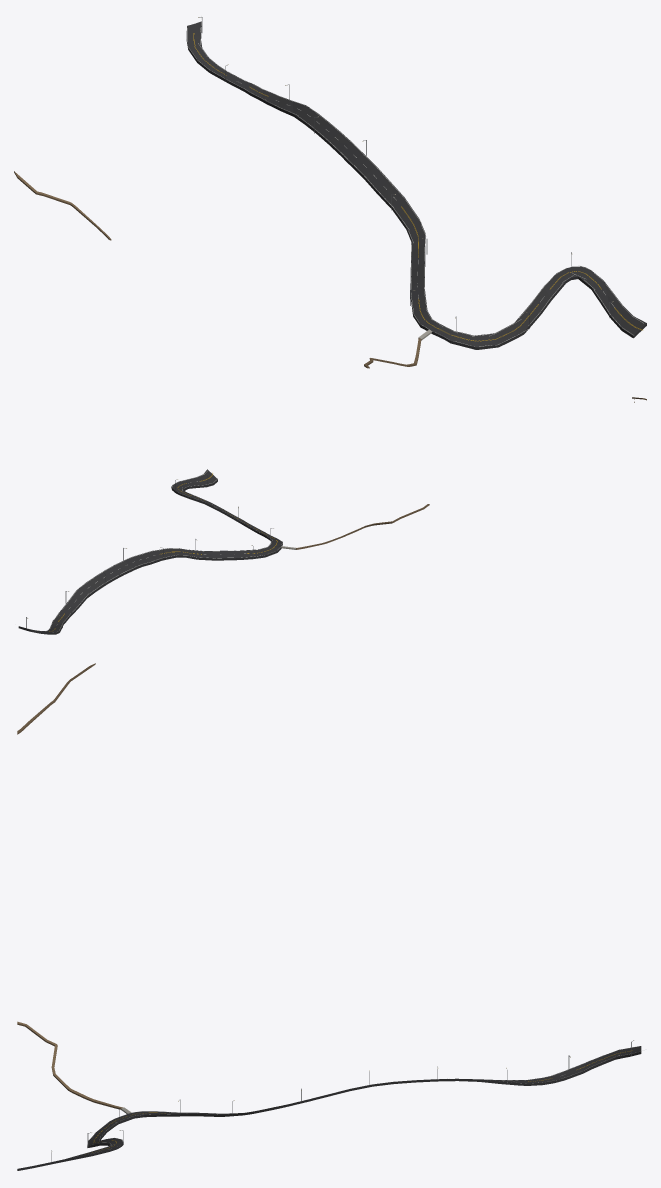
The picture shows the model from 3 angles, top to bottom: view 1: azimuth 30°, elevation 25°; view 2: azimuth 150°, elevation 25°; view 3: azimuth 270°, elevation 25°; orthographic projection. The views are drawn at different scales.
Size of the model in its own units: 291 by 138 by 296.
